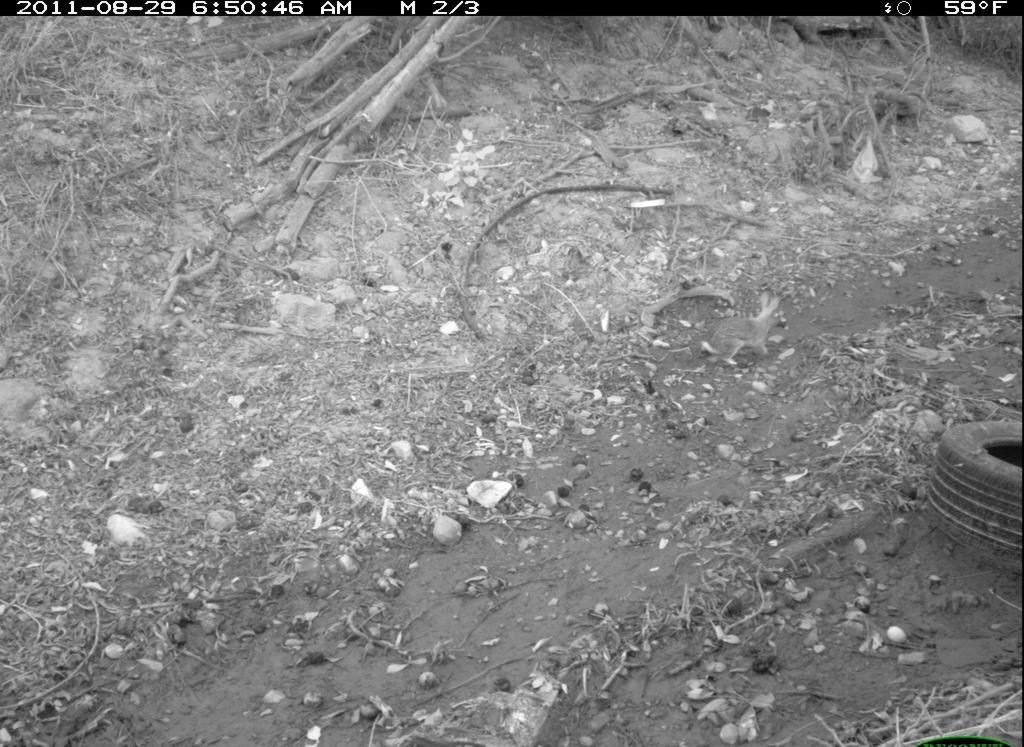rabbit: (697, 289, 784, 369)
